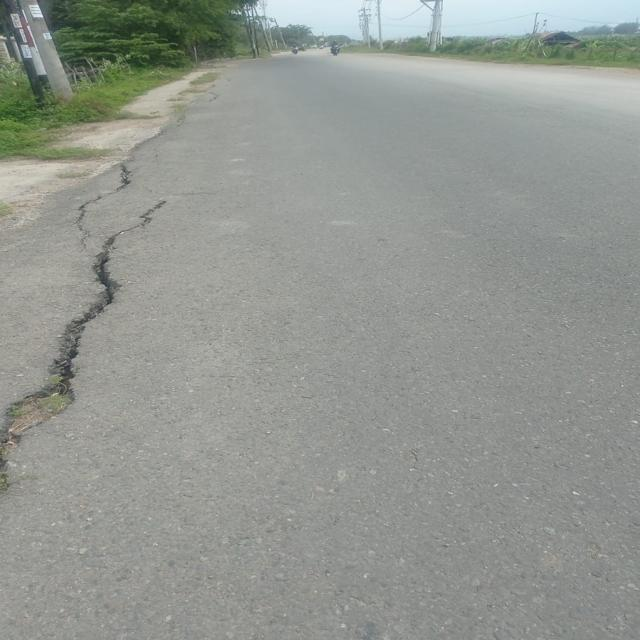Pinggir: (1, 97, 208, 536)
